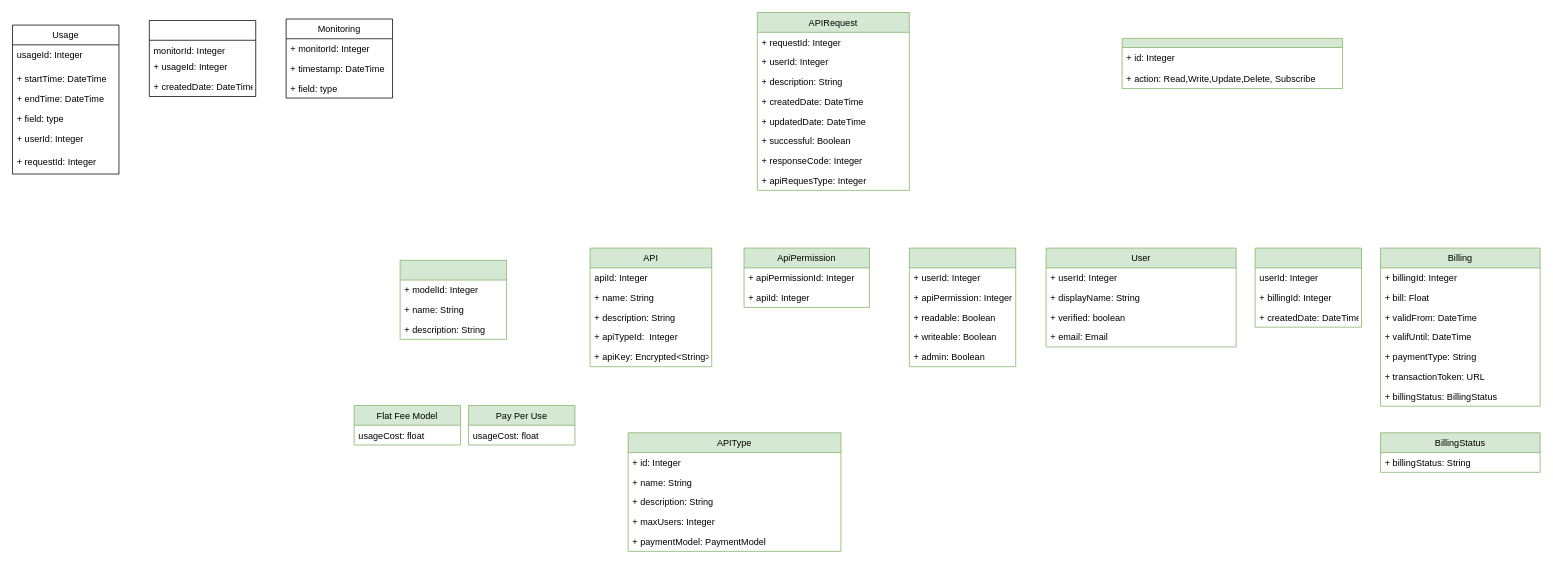
The diagram is 1553 pixels wide and 564 high, and some of its shapes have lost their labels. Each missing label, with the box of its shape:
APIRequestType: (1121, 38, 1343, 89)
PaymentModel: (399, 260, 507, 339)
UsageMonitoring: (149, 20, 256, 97)
UserBilling: (1254, 247, 1362, 327)
UserPermission: (909, 247, 1016, 367)
